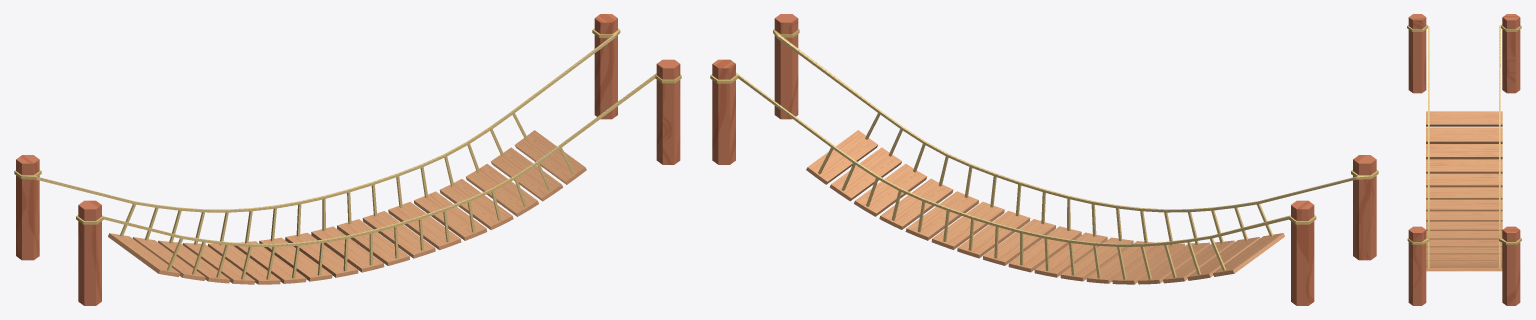
File: bridge_model.obj
3 renders of one model, left to right at view 1: azimuth 30°, elevation 25°; view 2: azimuth 150°, elevation 25°; view 3: azimuth 270°, elevation 25°, orthographic. The views are drawn at different scales.
Parts seen in each view (by area): view 1: Cube.008_Cube.009; view 2: Cube.008_Cube.009; view 3: Cube.008_Cube.009.
Part boxes in pixels (left/top/right/bottom): Cube.008_Cube.009: left=14, top=14, right=681, bottom=305; Cube.008_Cube.009: left=710, top=14, right=1378, bottom=305; Cube.008_Cube.009: left=1407, top=14, right=1521, bottom=305.
Size of the model in its own units: 28.06 by 6.25 by 6.18.
